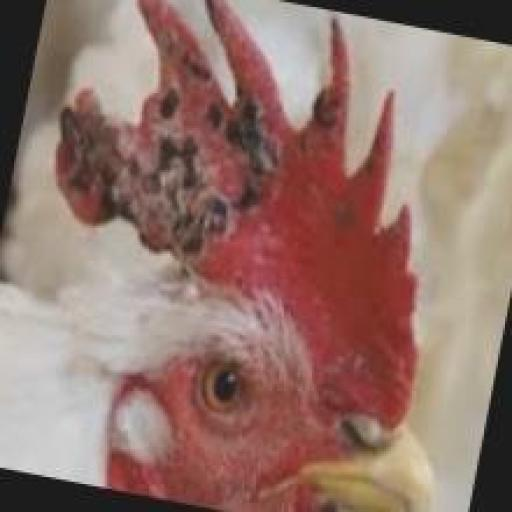disease: (51, 34, 357, 254)
